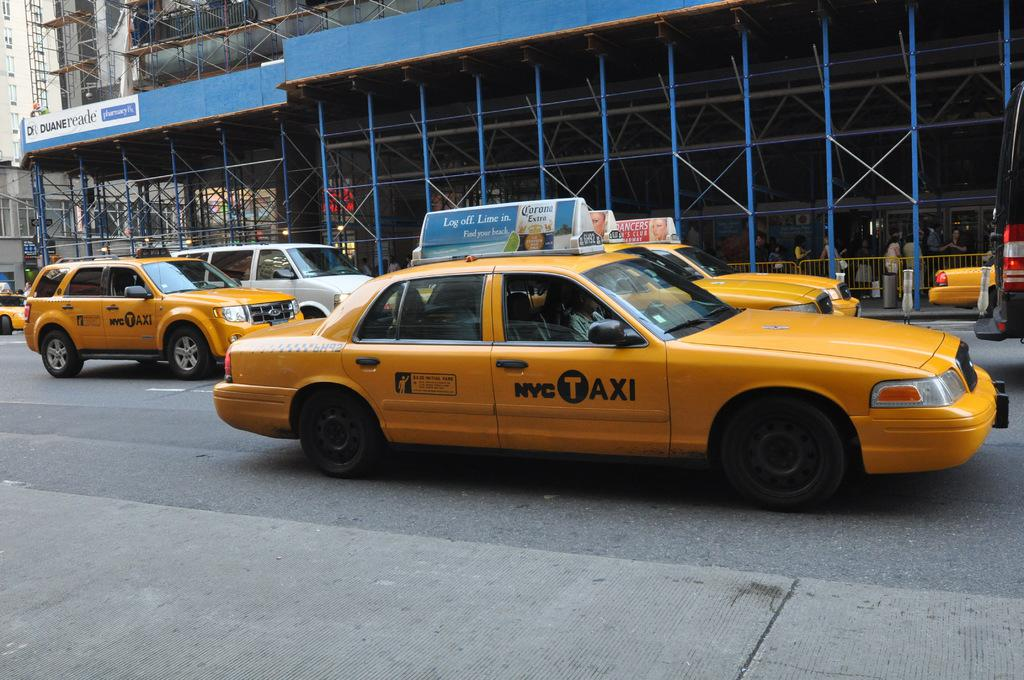taxi: (26, 246, 998, 512)
